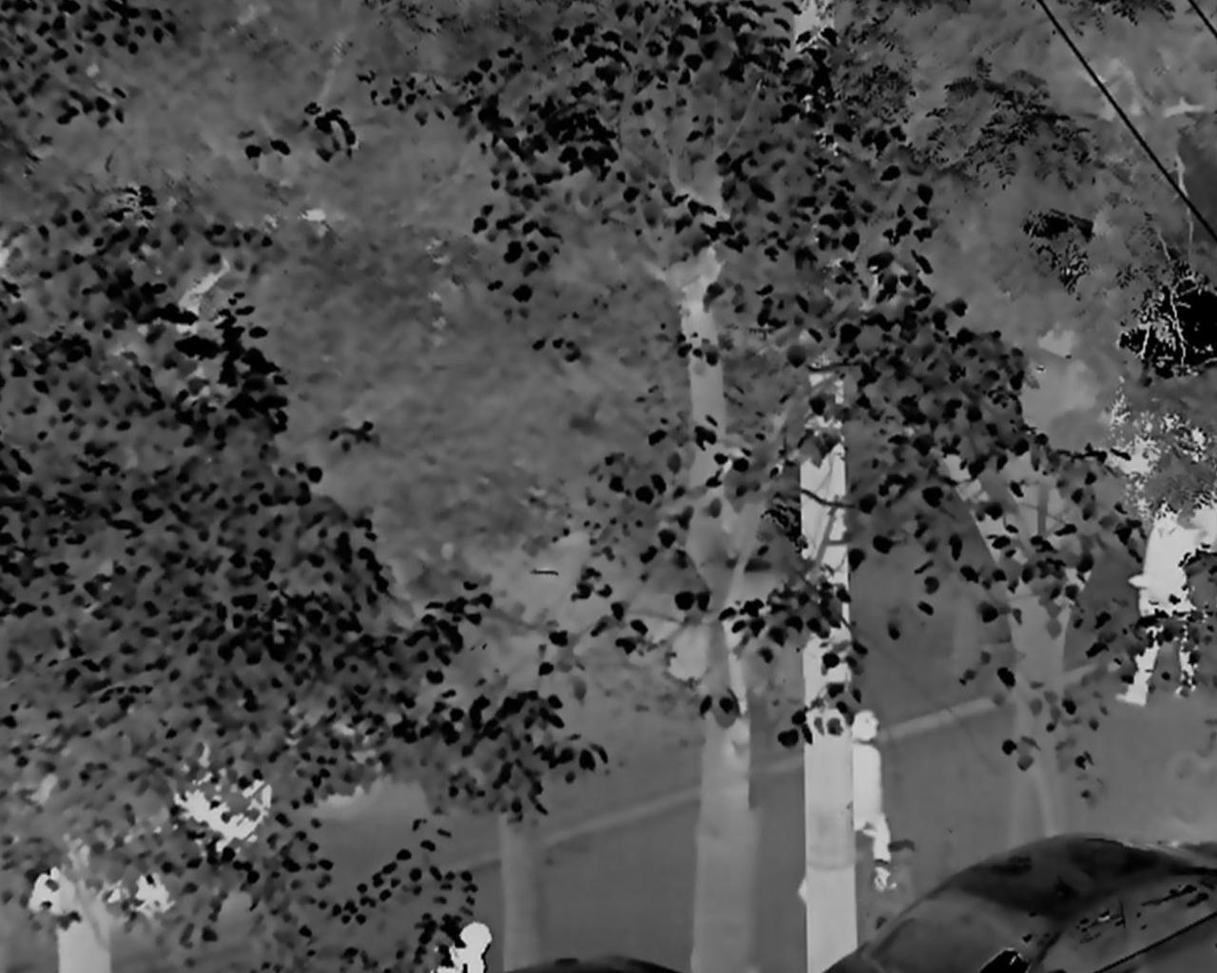person: (1127, 481, 1199, 719), (833, 711, 898, 906)
